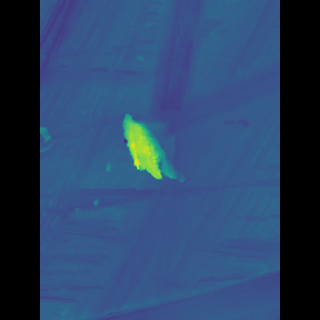Loch: (128, 109, 182, 187)
